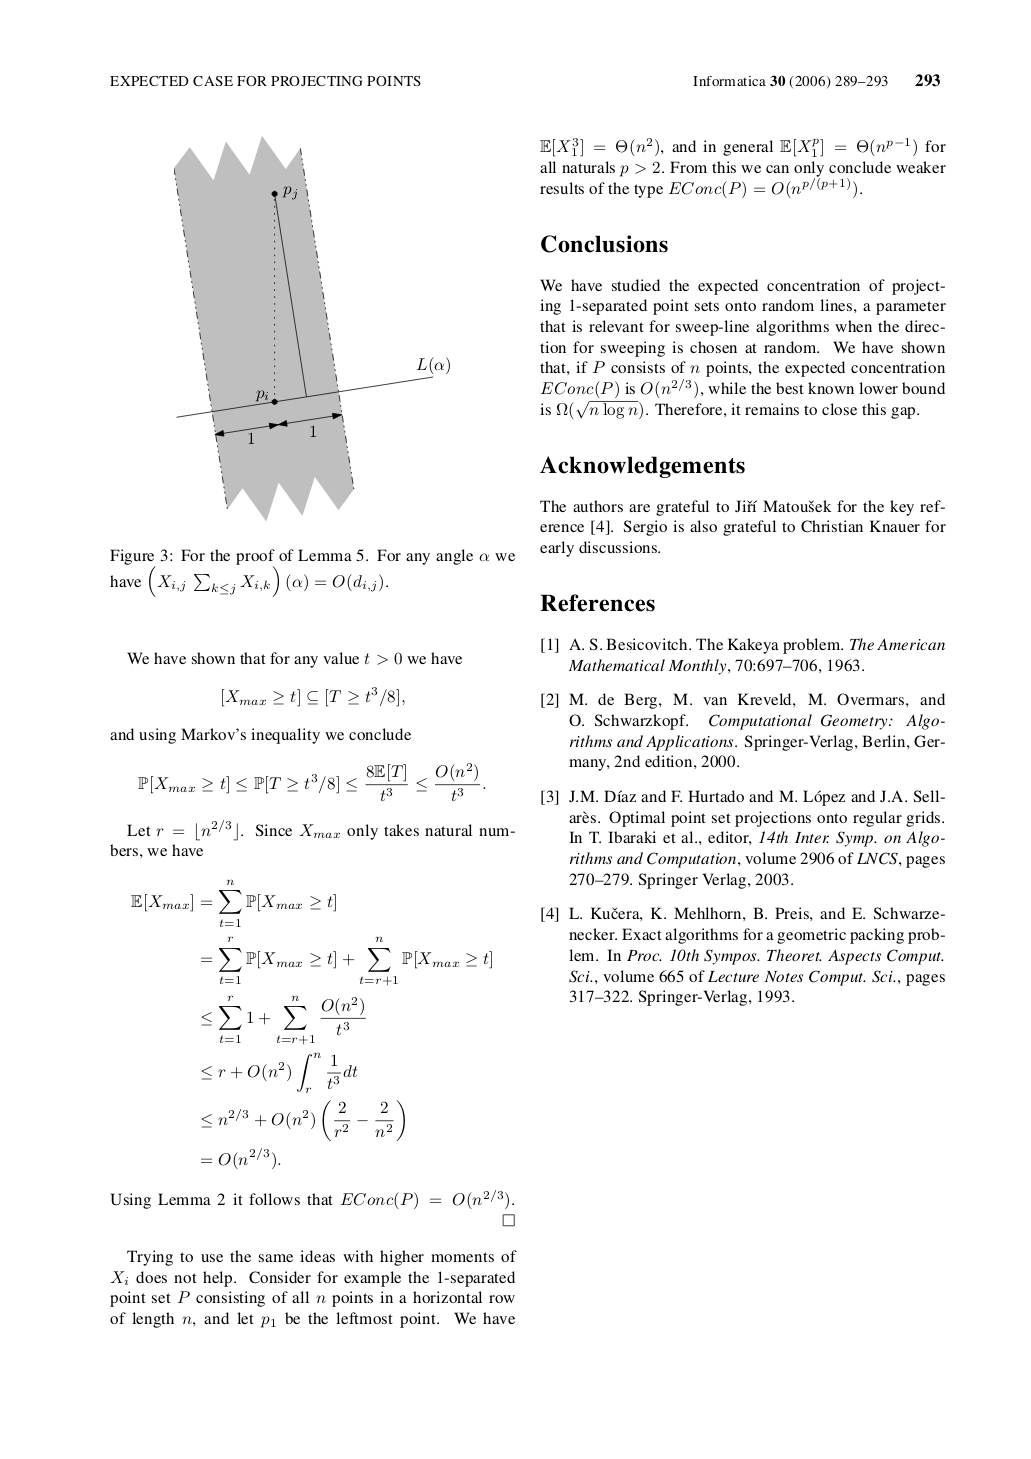figure: (174, 135, 449, 521), (502, 1212, 514, 1227)
formula: (201, 936, 491, 985), (138, 762, 485, 802), (131, 879, 335, 926), (201, 1099, 404, 1141), (201, 994, 365, 1045), (110, 566, 387, 596), (201, 1051, 357, 1093), (222, 685, 404, 707), (201, 1147, 280, 1170)
